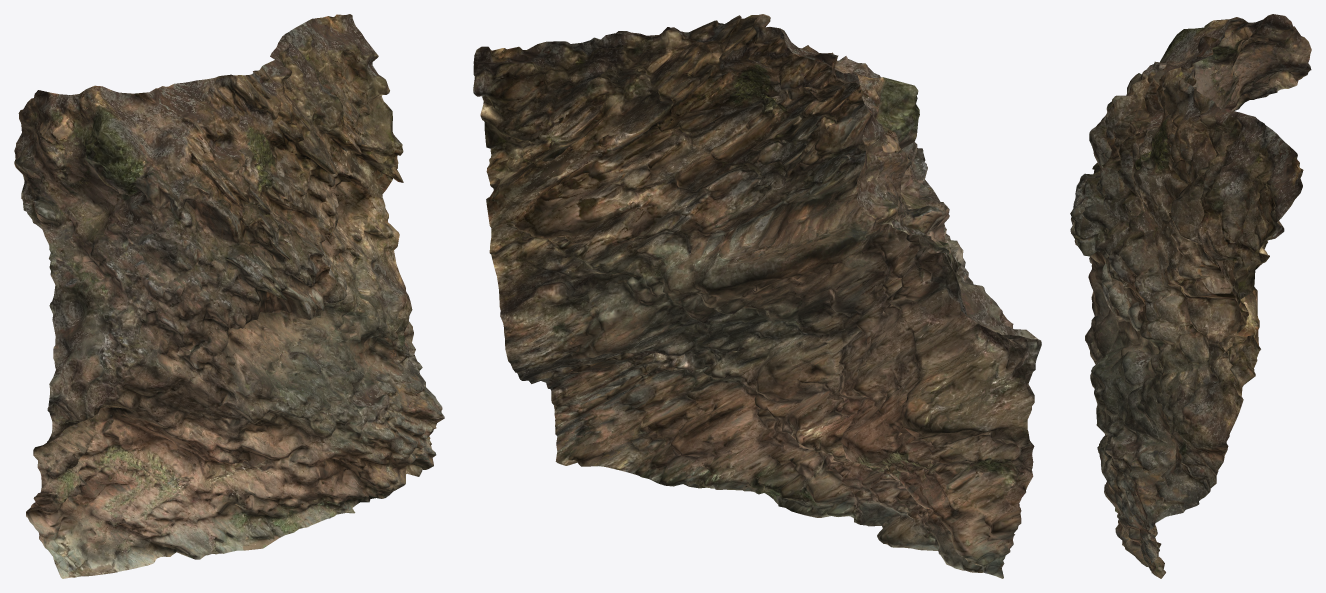
3 views of the same model, side by side, from view 1: azimuth 30°, elevation 25°; view 2: azimuth 150°, elevation 25°; view 3: azimuth 270°, elevation 25° (orthographic). The views are drawn at different scales.
Parts seen in each view (by area): view 1: mountainside; view 2: mountainside; view 3: mountainside.
Part boxes in pixels (x1=…): mountainside: x1=14, y1=14, x2=444, y2=578; mountainside: x1=473, y1=14, x2=1041, y2=578; mountainside: x1=1070, y1=14, x2=1311, y2=578.
Size of the model in its own units: 10.21 by 10.52 by 5.25.
1 material, 1 textured.
